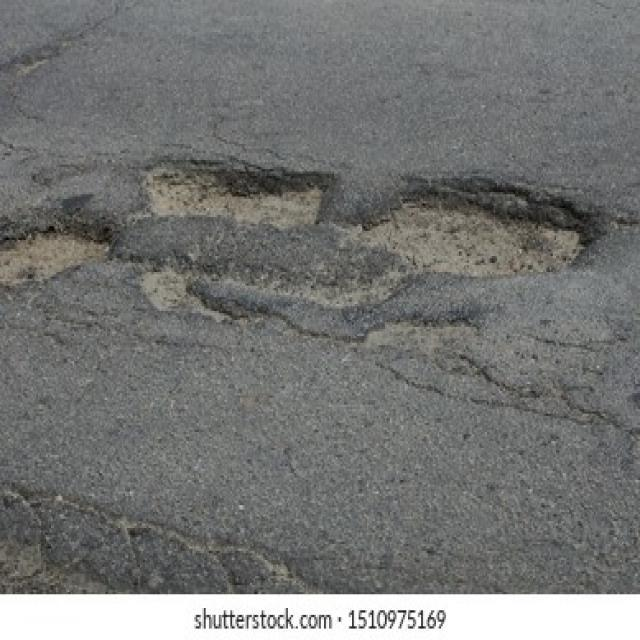Pothole: (350, 181, 598, 281), (138, 156, 331, 236), (199, 254, 388, 314), (0, 214, 114, 290), (132, 253, 200, 316), (364, 315, 481, 350)
